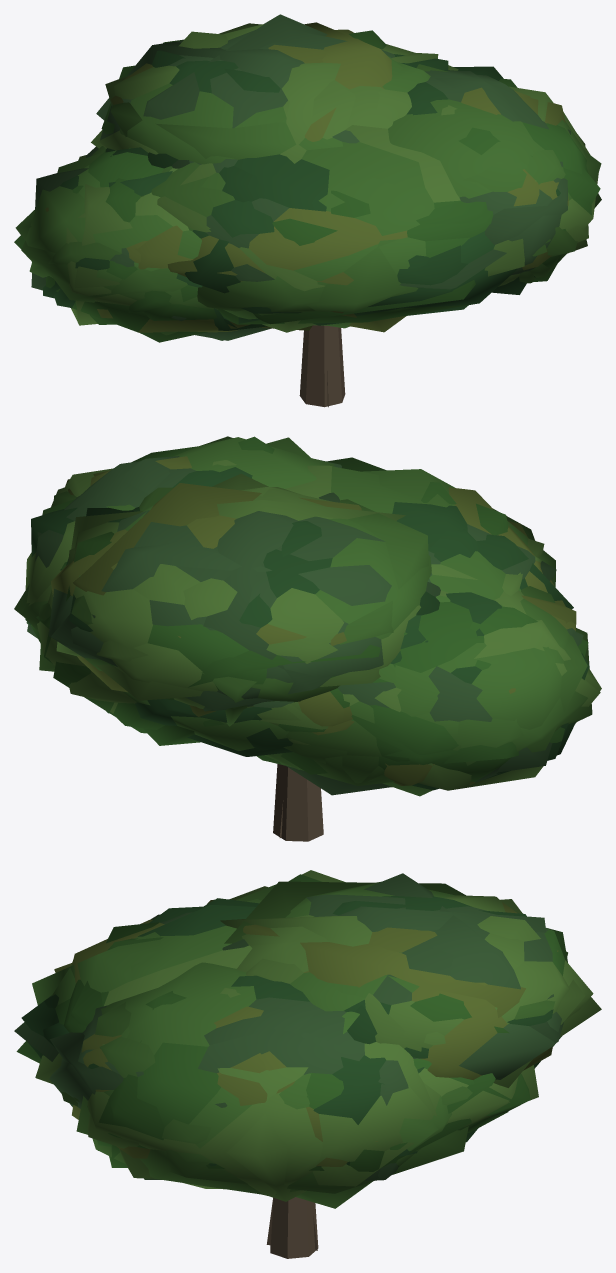
Rendered from vegetation.glb.
The picture shows the model from 3 angles, top to bottom: view 1: azimuth 30°, elevation 25°; view 2: azimuth 150°, elevation 25°; view 3: azimuth 270°, elevation 25°; orthographic projection. The views are drawn at different scales.
Visible parts, largest first — view 1: tree_2_far, tree_2_near, tree_0_near, tree_5_near, tree_0_far, tree_5_far, tree_1_far, tree_6_near, tree_7_near, tree_3_far, tree_6_far, tree_7_far (+4 smaller); view 2: tree_2_far, tree_0_near, tree_7_far, tree_6_near, tree_2_near, tree_1_far, tree_7_near, tree_1_near, tree_0_far, tree_5_near, tree_3_far, tree_6_far (+4 smaller); view 3: tree_2_near, tree_2_far, tree_0_near, tree_1_near, tree_1_far, tree_0_far, tree_5_far, tree_6_far, tree_5_near, tree_6_near, tree_7_near, tree_7_far (+4 smaller).
Boxes of the visible parts, x1,y1,x2,y2 form: tree_2_far: (71,22,570,328); tree_2_near: (66,29,563,405); tree_0_near: (88,24,586,320); tree_5_near: (54,49,591,398); tree_0_far: (14,31,601,388); tree_5_far: (43,62,600,407); tree_1_far: (15,14,588,324); tree_6_near: (72,23,571,332); tree_7_near: (25,40,519,343); tree_3_far: (31,50,565,340); tree_6_far: (45,52,601,342); tree_7_far: (29,42,587,335); tree_2_far: (26,456,601,790); tree_0_near: (60,437,527,781); tree_7_far: (28,457,587,783); tree_6_near: (21,458,467,840); tree_2_near: (27,459,600,841); tree_1_far: (36,468,592,796); tree_7_near: (25,516,570,785); tree_1_near: (48,487,587,836); tree_0_far: (25,436,573,774); tree_5_near: (72,446,575,841); tree_3_far: (65,456,583,816); tree_6_far: (14,437,588,764); tree_2_near: (49,899,552,1180); tree_2_far: (32,870,558,1180); tree_0_near: (27,933,593,1207); tree_1_near: (55,912,561,1252); tree_1_far: (16,873,563,1201); tree_0_far: (21,874,601,1193); tree_5_far: (54,881,567,1171); tree_6_far: (44,898,585,1250); tree_5_near: (72,882,507,1258); tree_6_near: (101,895,569,1250); tree_7_near: (63,894,552,1258); tree_7_far: (71,906,553,1186).
Size of the model in its own units: 1.87 by 1.11 by 1.75.
